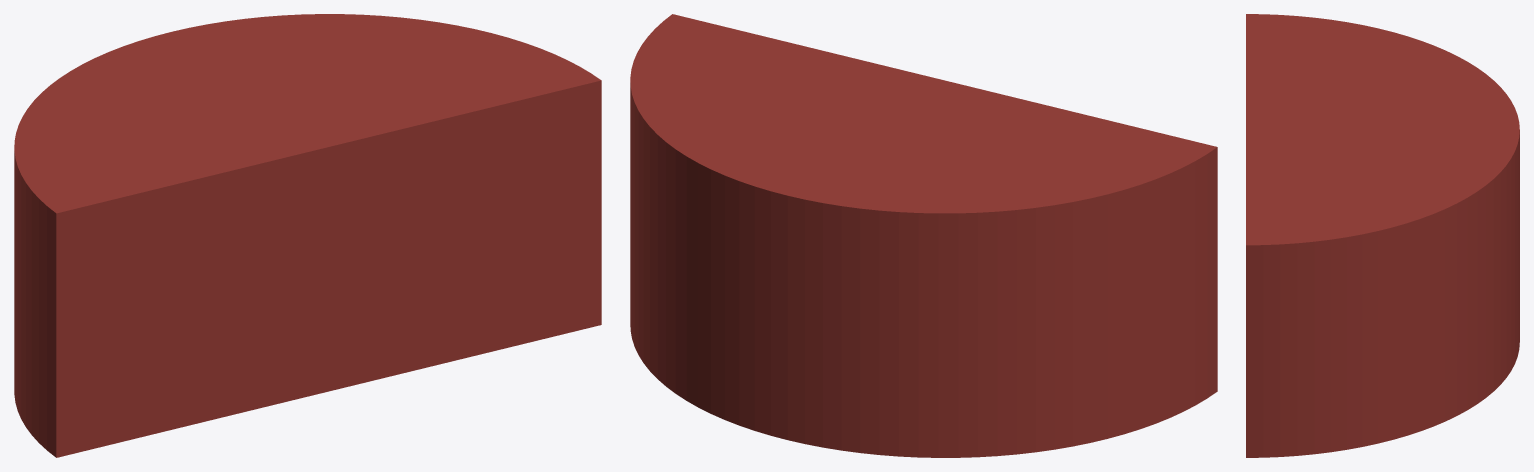
The model's file is BigHemiR.fbx.
The picture shows the model from 3 angles, left to right: view 1: azimuth 30°, elevation 25°; view 2: azimuth 150°, elevation 25°; view 3: azimuth 270°, elevation 25°; orthographic projection. The views are drawn at different scales.
Visible parts, largest first — view 1: BigHemiR; view 2: BigHemiR; view 3: BigHemiR.
Boxes of the visible parts, <box> form: BigHemiR: <box>14,14,601,457</box>; BigHemiR: <box>630,14,1217,457</box>; BigHemiR: <box>1246,14,1519,457</box>.
Bounding box in the file's own units: 1400 × 600 × 700.
